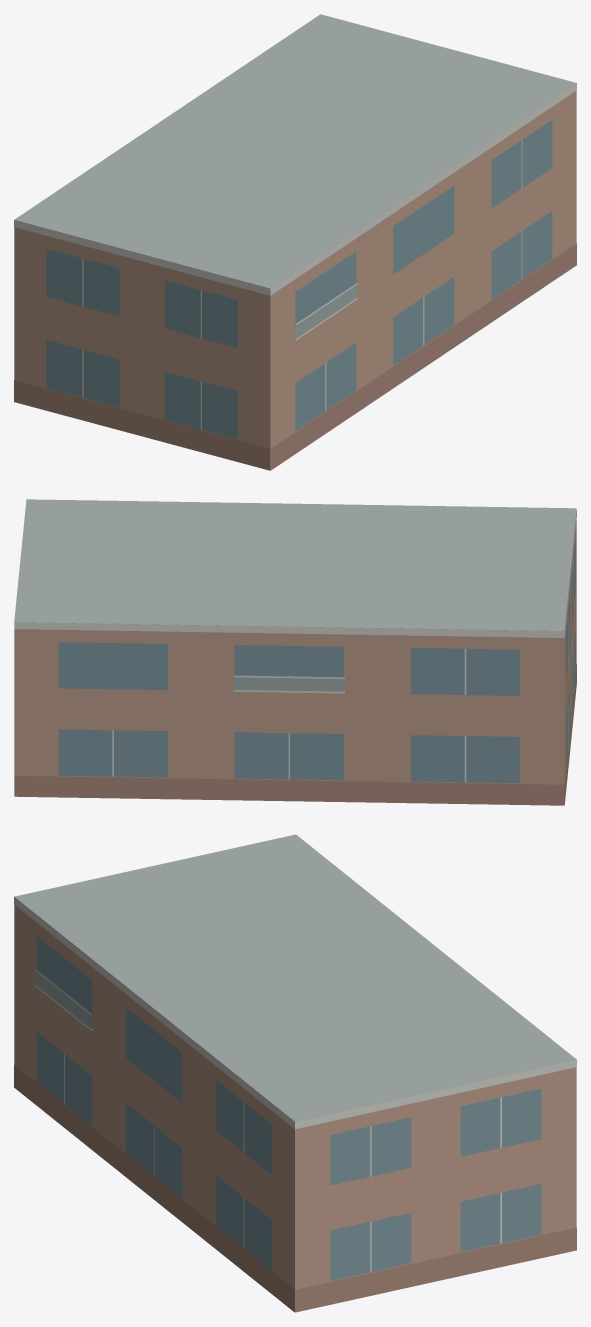
Rendered from survey-upis-32839356.glb.
The picture shows the model from 3 angles, top to bottom: view 1: azimuth 30°, elevation 25°; view 2: azimuth 150°, elevation 25°; view 3: azimuth 270°, elevation 25°; orthographic projection. The views are drawn at different scales.
Visible parts, largest first — view 1: survey-upis-32839356.tmp; view 2: survey-upis-32839356.tmp; view 3: survey-upis-32839356.tmp.
Part boxes in pixels (x1=…): survey-upis-32839356.tmp: x1=14, y1=14, x2=576, y2=470; survey-upis-32839356.tmp: x1=14, y1=499, x2=576, y2=805; survey-upis-32839356.tmp: x1=14, y1=834, x2=576, y2=1312.
Size of the model in its own units: 19.71 by 6.1 by 16.31.
